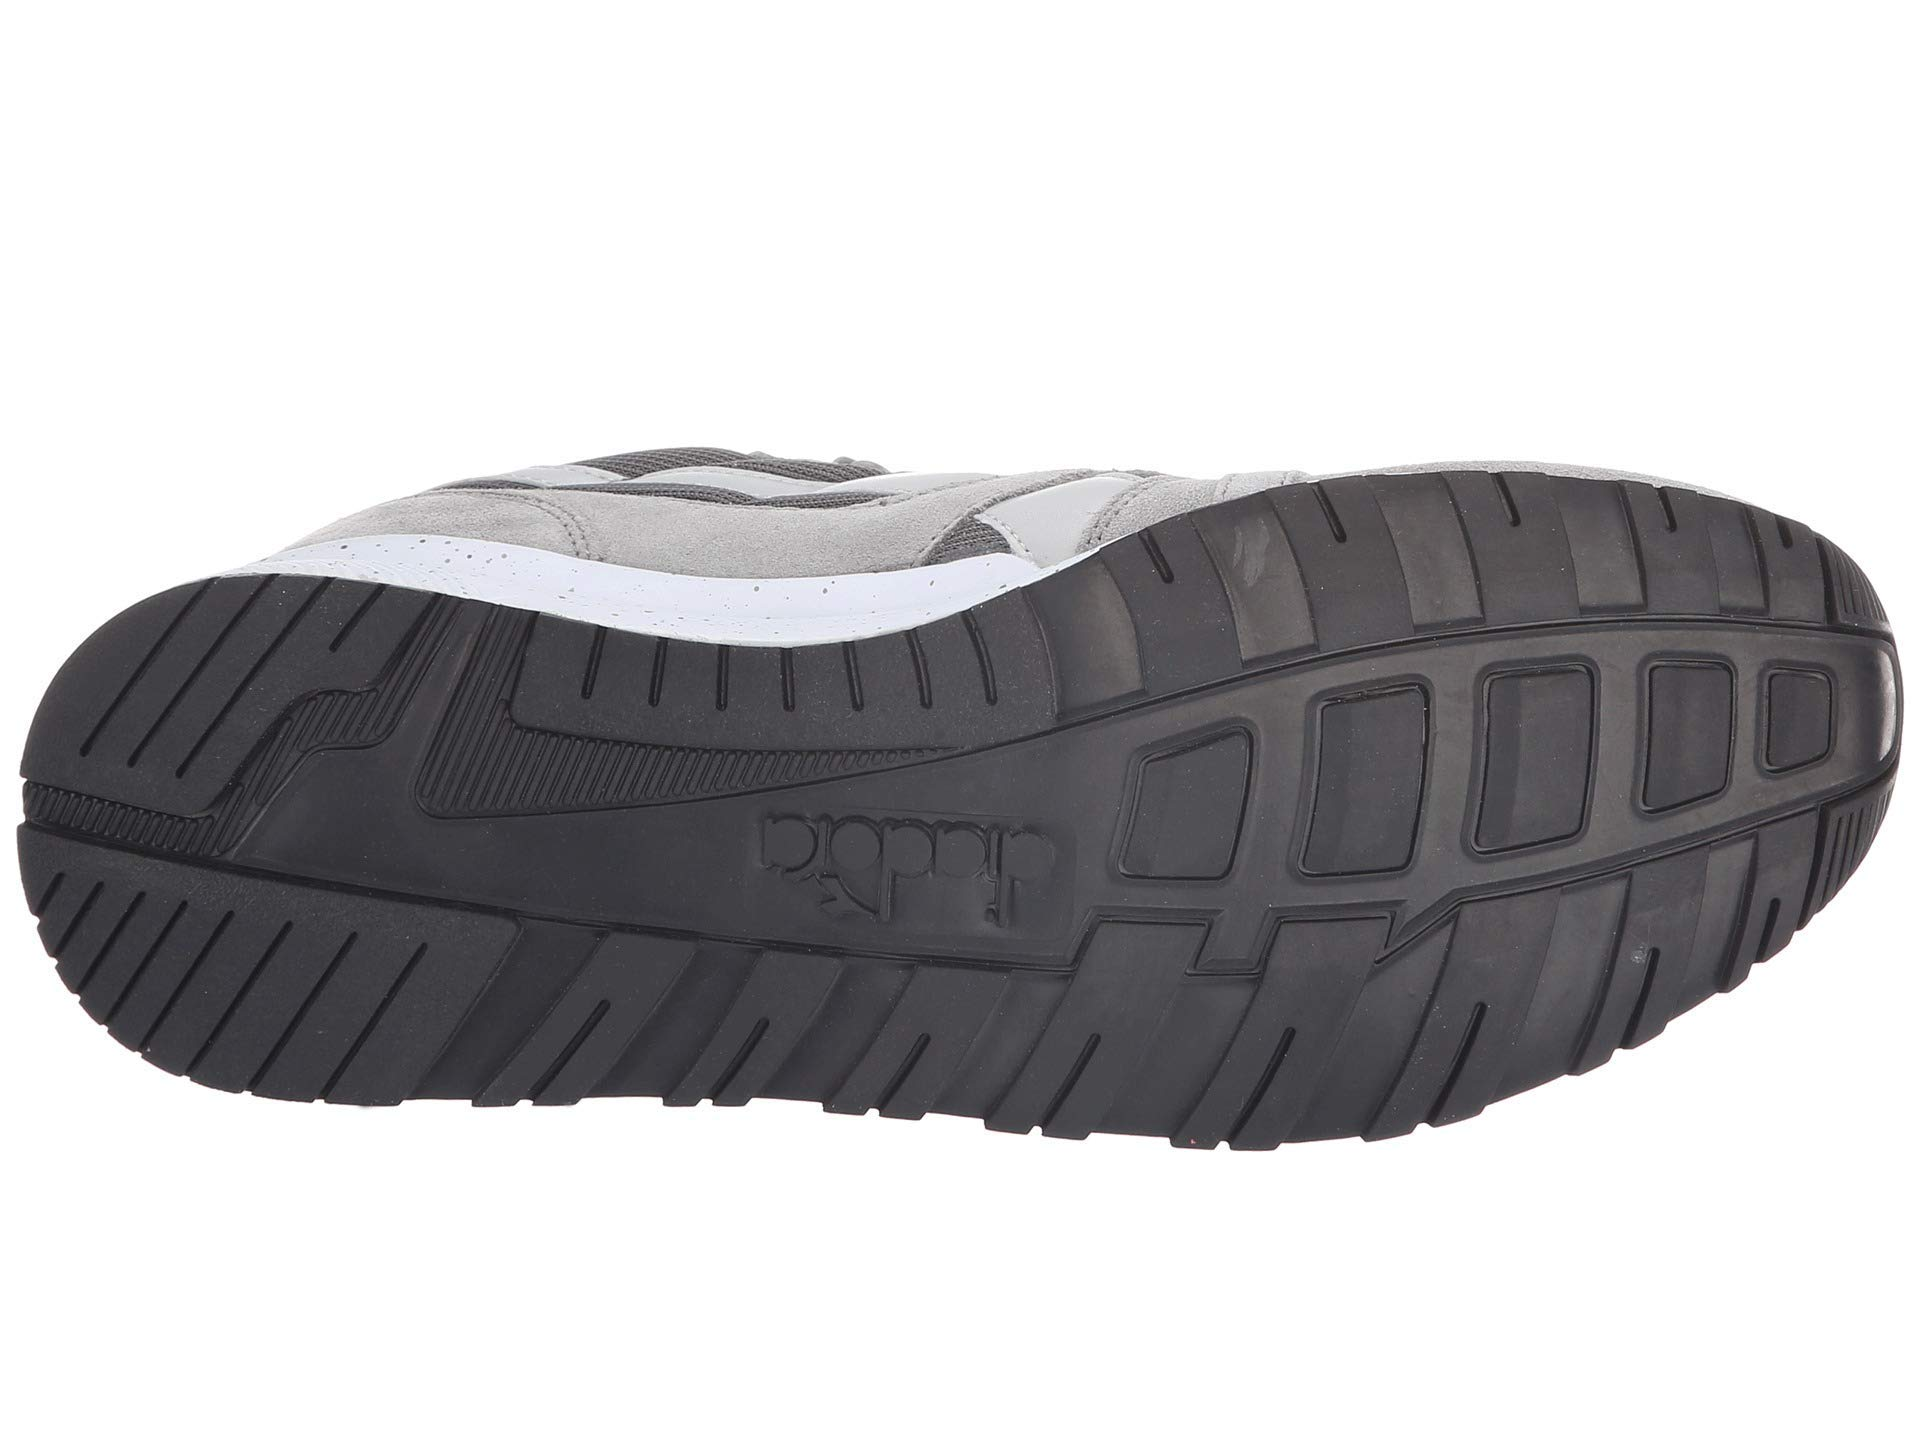circle: (742, 793, 1084, 948)
line: (104, 894, 310, 1106), (491, 678, 664, 841)
quad: (1448, 637, 1754, 874)
text: (742, 793, 1084, 948)
